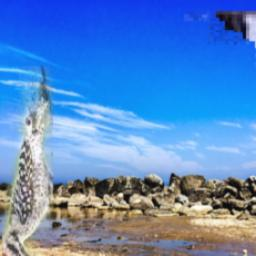Crow: (177, 11, 256, 256)
Woodpecker: (2, 66, 53, 256)
